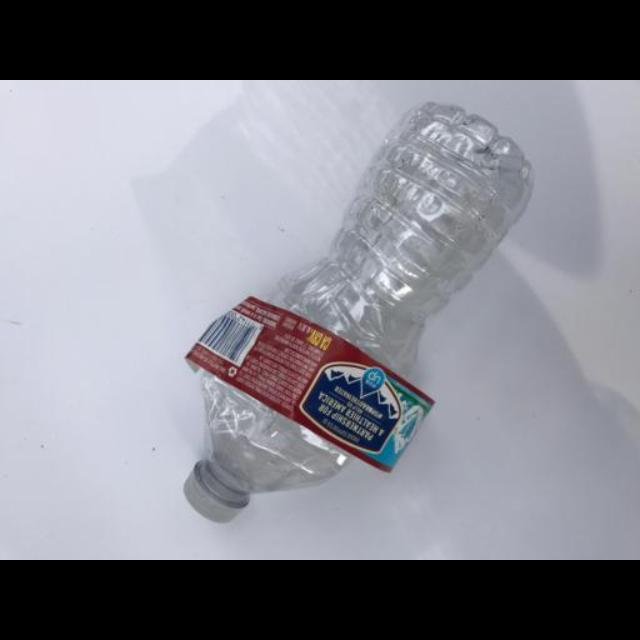garrafa plástica: (203, 99, 537, 495), (182, 456, 250, 524)
